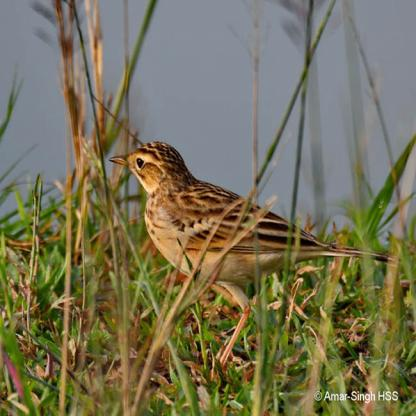Burung: (111, 142, 391, 369)
